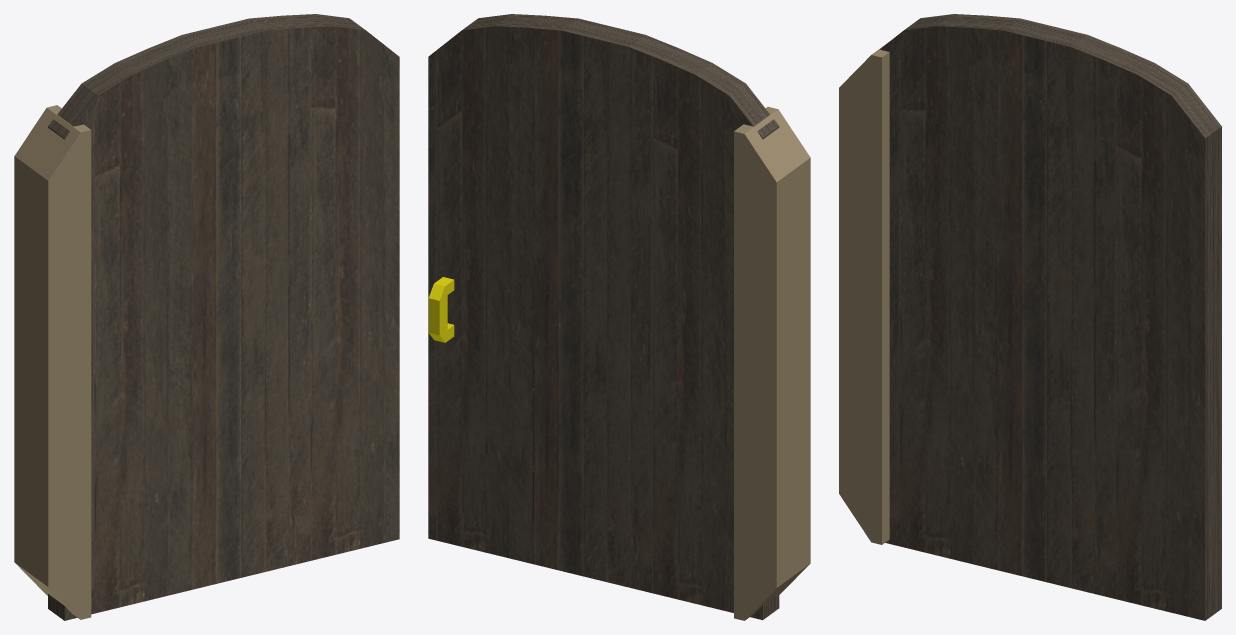
The model's file is Right_PalisadeDoor.fbx.
The picture shows the model from 3 angles, left to right: view 1: azimuth 30°, elevation 25°; view 2: azimuth 150°, elevation 25°; view 3: azimuth 330°, elevation 25°; orthographic projection.
Parts seen in each view (by area): view 1: RightDoor, RightDoorFrame; view 2: RightDoor, RightDoorFrame, RightDoorHandle; view 3: RightDoor, RightDoorFrame.
Boxes of the visible parts, x1,y1,x2,y2 form: RightDoor: [48, 14, 399, 620]; RightDoorFrame: [14, 105, 91, 619]; RightDoor: [428, 14, 779, 620]; RightDoorFrame: [734, 106, 810, 620]; RightDoorHandle: [428, 277, 454, 342]; RightDoor: [880, 14, 1221, 620]; RightDoorFrame: [839, 43, 889, 544].
Size of the model in its own units: 3.67 by 0.6852 by 5.29.
